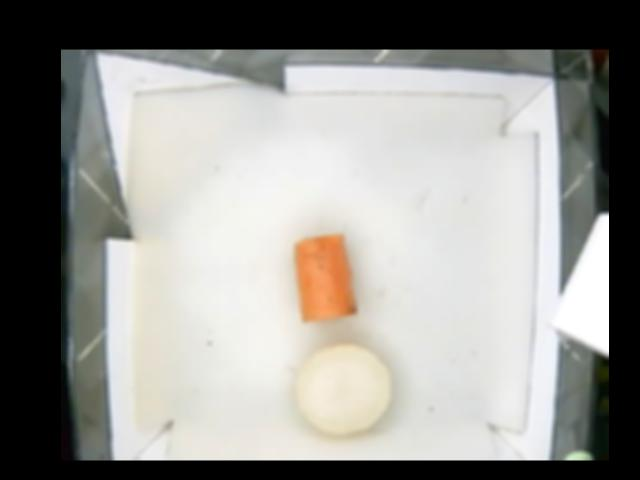Carrot: (292, 234, 357, 321)
China: (295, 344, 394, 433)
